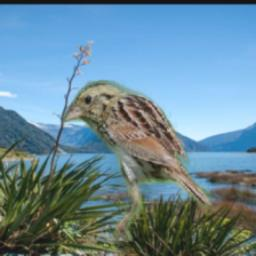Sparrow: (64, 81, 214, 242)
